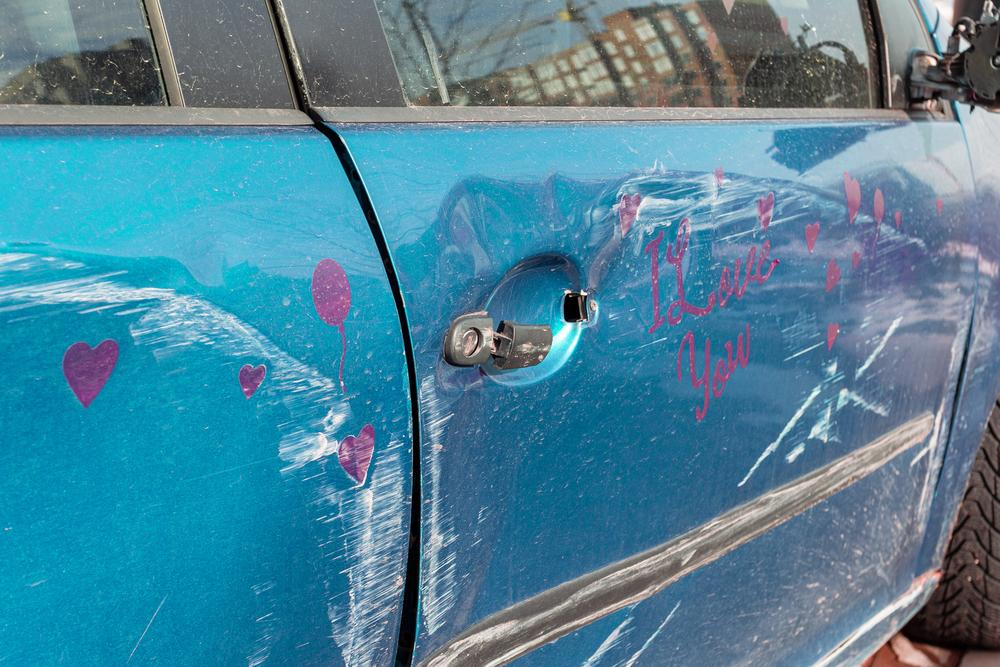dent: (0, 251, 313, 667), (436, 172, 712, 347)
scratch: (423, 464, 888, 667), (297, 359, 411, 667), (738, 298, 911, 488), (701, 170, 935, 295), (417, 372, 479, 633)
